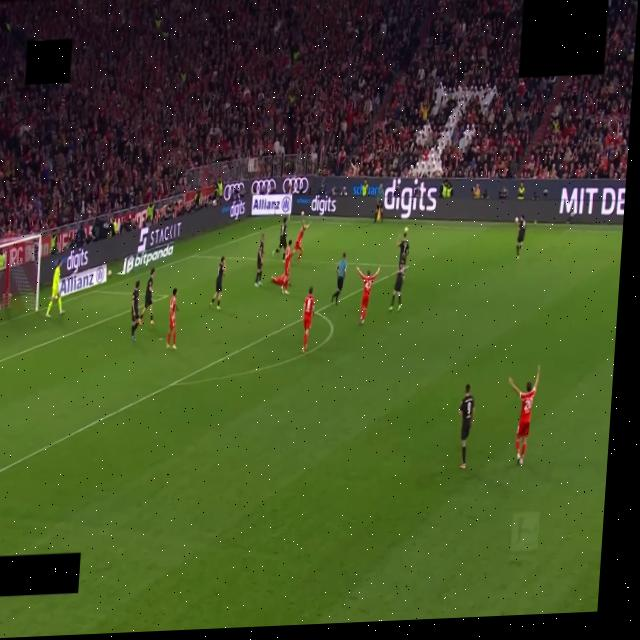player: (509, 367, 540, 464), (459, 385, 474, 469), (357, 268, 379, 324), (271, 241, 292, 294), (46, 261, 64, 316), (139, 268, 155, 325), (166, 288, 180, 350), (389, 263, 405, 311), (211, 256, 225, 308), (303, 287, 314, 352), (294, 220, 309, 260), (282, 240, 293, 294), (131, 281, 140, 341), (274, 218, 287, 259), (255, 235, 264, 287), (516, 216, 526, 258), (397, 232, 408, 265)
referee: (331, 253, 346, 304)
